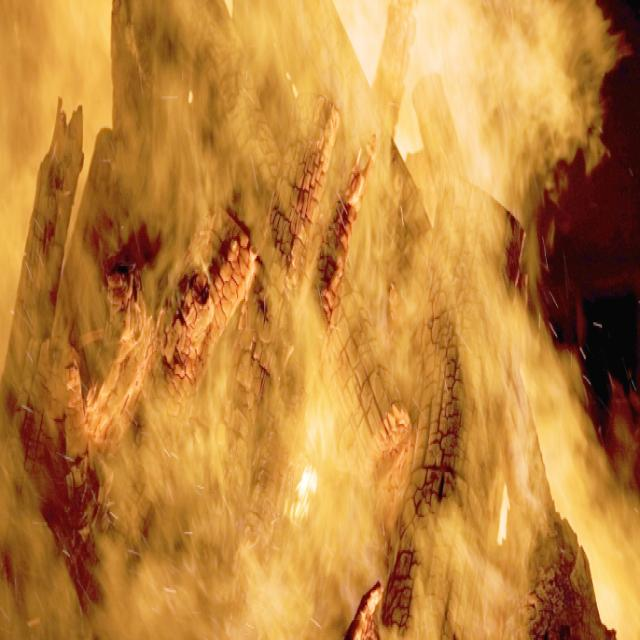api: (283, 459, 329, 527)
asap: (1, 1, 321, 640), (359, 1, 640, 640)
